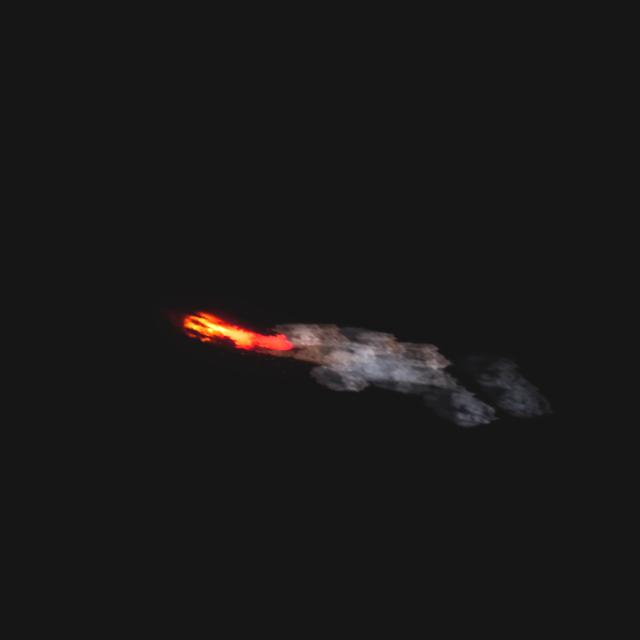fire: (174, 305, 294, 365)
smoke: (276, 304, 550, 446)
